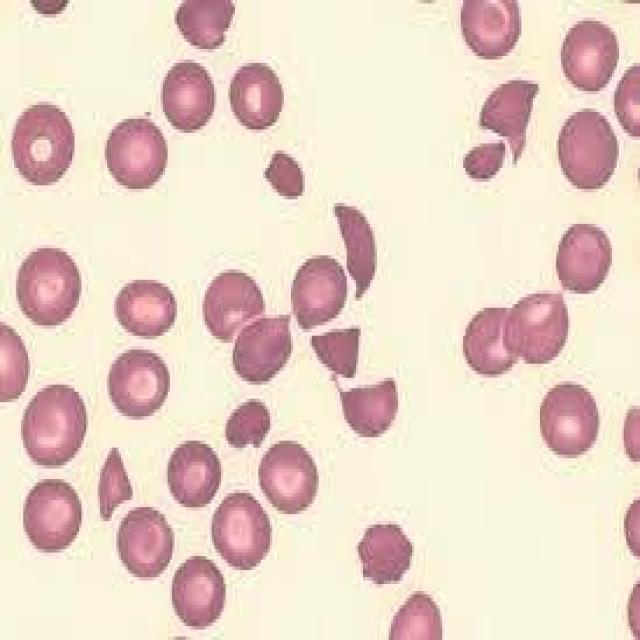RBC: (11, 234, 90, 340), (256, 423, 323, 532), (160, 538, 232, 636), (16, 381, 88, 476), (100, 342, 175, 433), (202, 486, 277, 577), (19, 478, 93, 562), (105, 497, 179, 577), (104, 273, 182, 346)
sickle cell: (328, 192, 382, 308)
